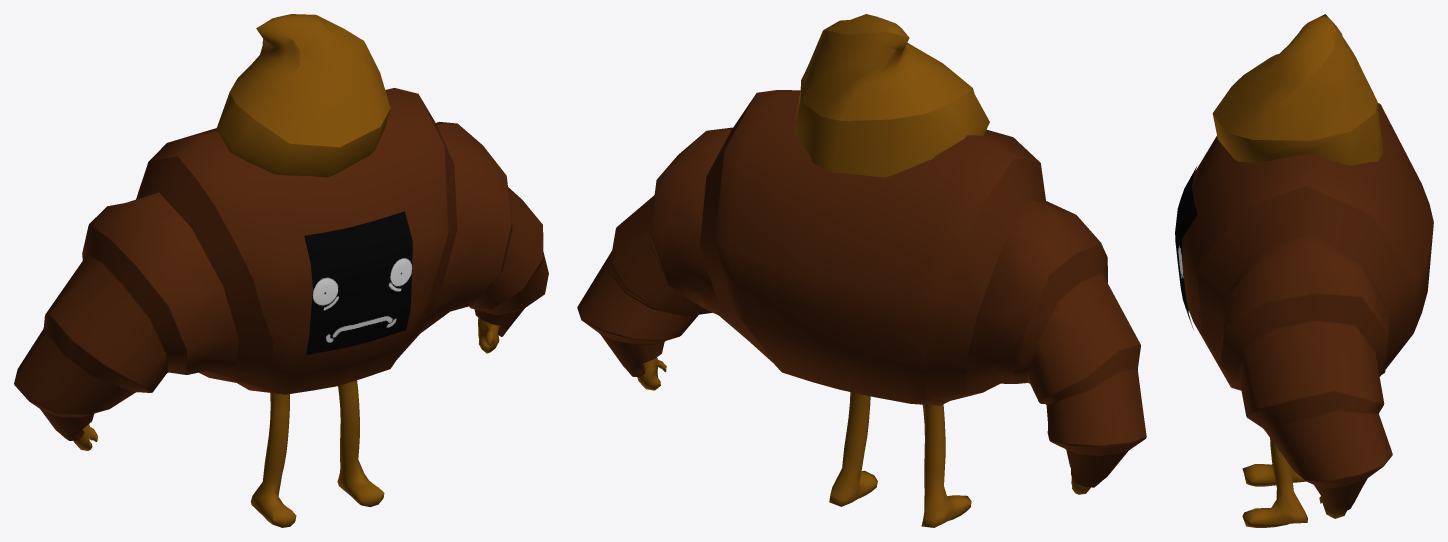
The model's file is SKM_Croissant.fbx.
The picture shows the model from 3 angles, left to right: view 1: azimuth 30°, elevation 25°; view 2: azimuth 150°, elevation 25°; view 3: azimuth 270°, elevation 25°; orthographic projection. The views are drawn at different scales.
Visible parts, largest first — view 1: SKM_Croissant; view 2: SKM_Croissant; view 3: SKM_Croissant.
Boxes of the visible parts, x1=… form: SKM_Croissant: x1=14, y1=14, x2=548, y2=527; SKM_Croissant: x1=577, y1=14, x2=1146, y2=527; SKM_Croissant: x1=1175, y1=14, x2=1433, y2=527.
Size of the model in its own units: 4.62 by 4.03 by 1.97.
Materials: 3 (1 with a texture image).
